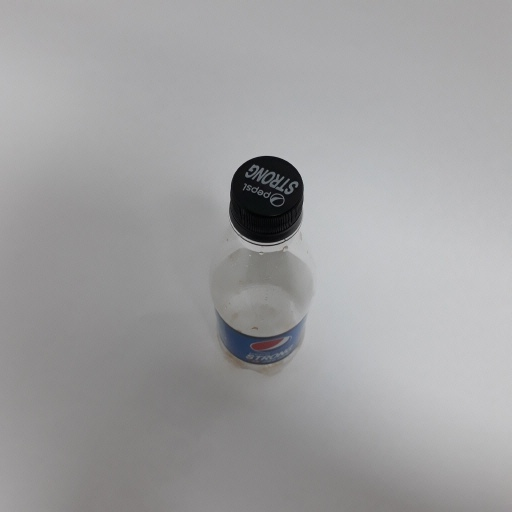Plastic_0: (206, 154, 319, 387)
